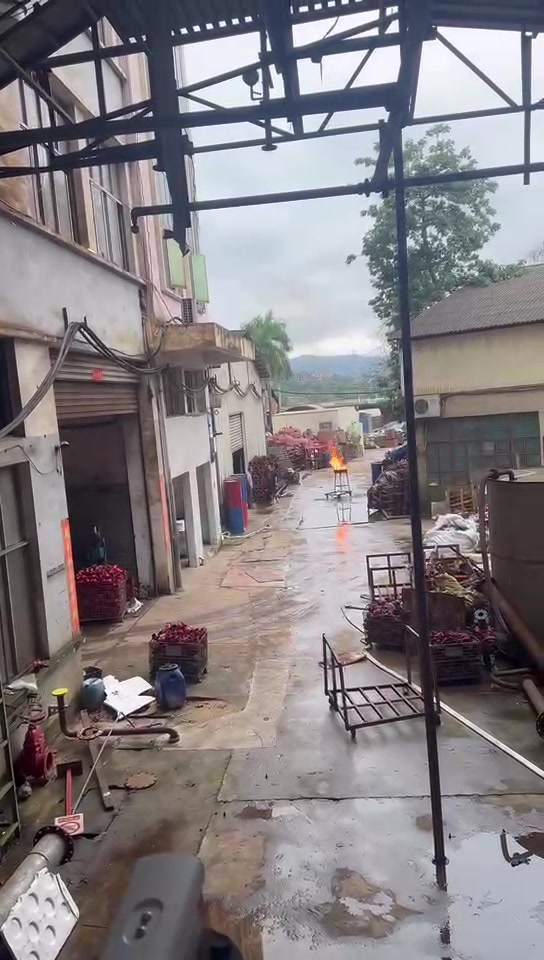fire: (328, 443, 346, 469)
